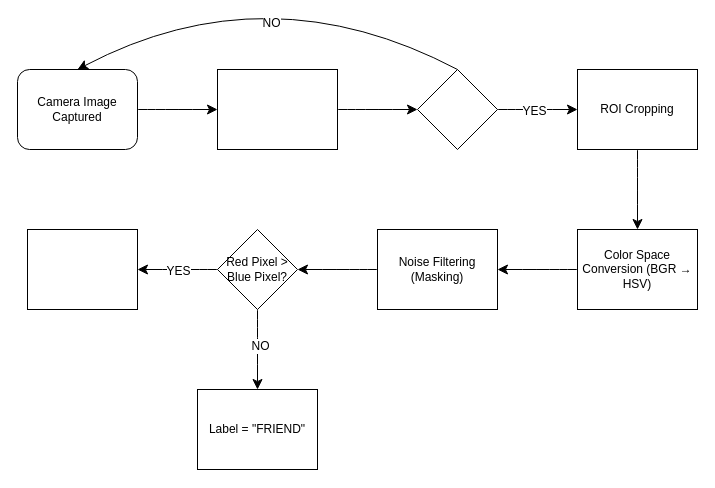
This 715x488 diagram has some shape labels left out. The shapes that lost their labels are listed below. From the top down, each one's centre as x and y in pixels, then its label:
[277,109]: YOLOv11 (CUDA) Object Detection
[457,109]: Is Balloon Detected?
[82,269]: Label = "ENEMY"
